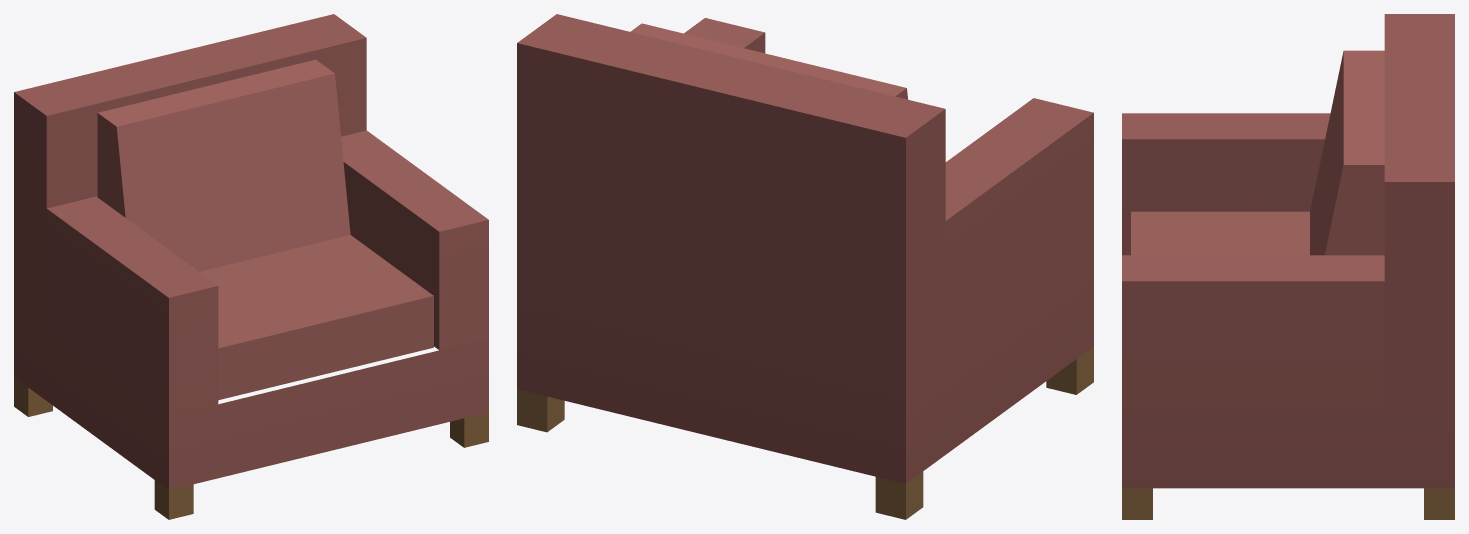
The model's file is sofa.armchair.rose.glb.
3 views of the same model, side by side, from view 1: azimuth 30°, elevation 25°; view 2: azimuth 150°, elevation 25°; view 3: azimuth 270°, elevation 25° (orthographic). The views are drawn at different scales.
Visible parts, largest first — view 1: sofa_armchair_rose; view 2: sofa_armchair_rose; view 3: sofa_armchair_rose.
Part boxes in pixels (bbox=[...]): sofa_armchair_rose: bbox=[14, 14, 488, 519]; sofa_armchair_rose: bbox=[517, 14, 1093, 519]; sofa_armchair_rose: bbox=[1122, 14, 1454, 519].
Size of what is drawn, in the model's own units: 0.905 by 0.85 by 0.758.
